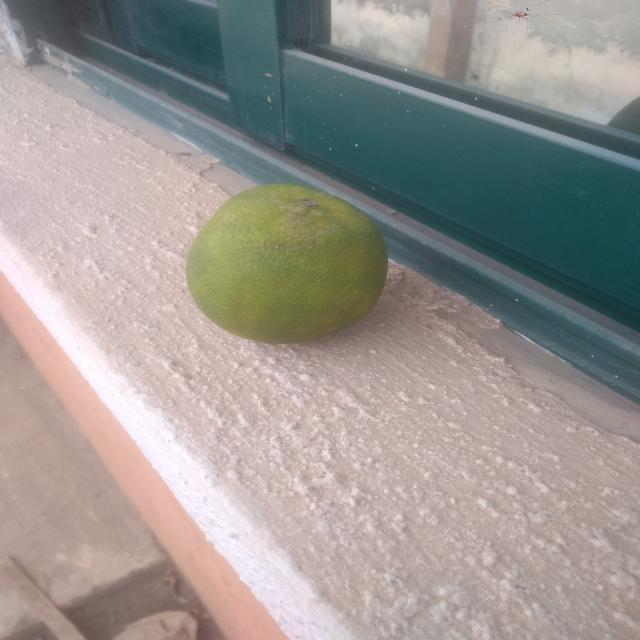Unripe: (181, 177, 400, 361)
